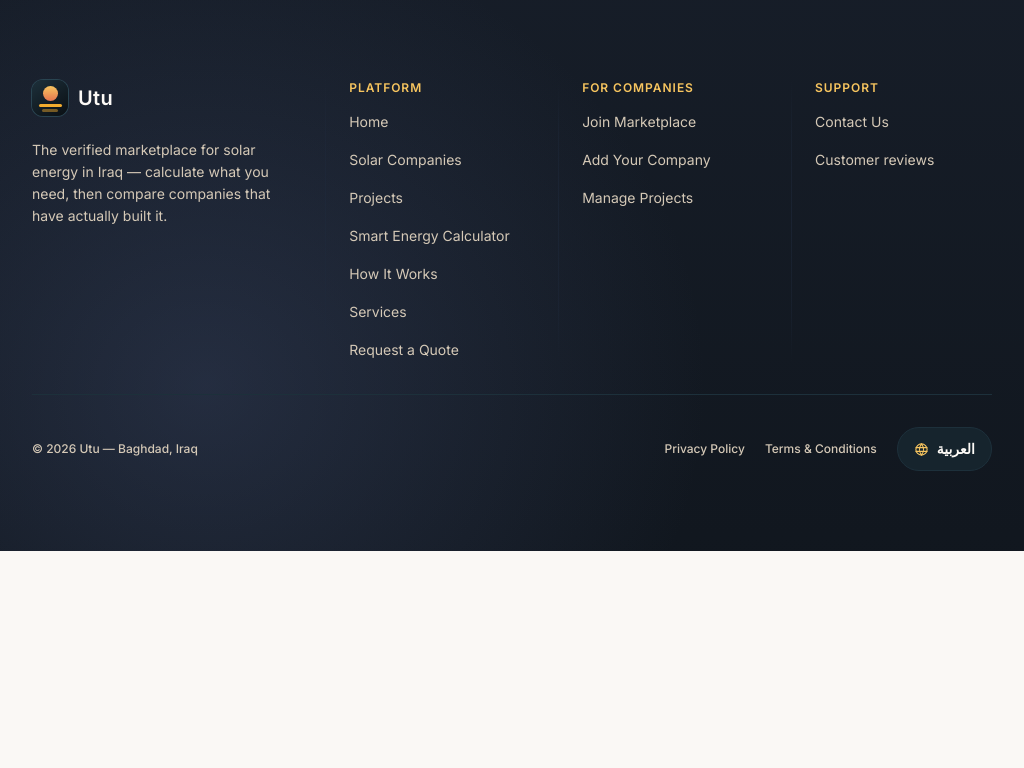
Test: Footer quick links › opens the Terms and Privacy dialogs from their footer links
What coordinates should you click on to do the following:
click the link "Privacy Policy"
I would click on:
 (705, 449)
Its box is [664, 441, 745, 457].
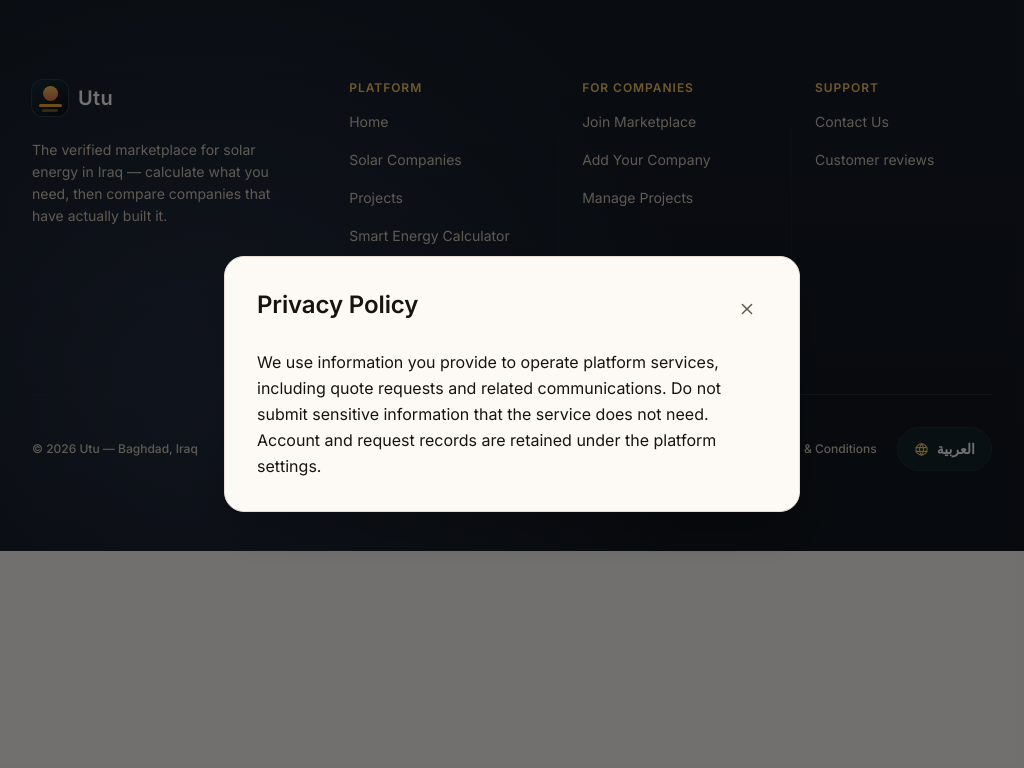
expect the dialog "Privacy Policy" is shown: met, box [224, 256, 800, 512]
What coordinates should you click on to do the following:
click the button named "Close"
I would click on:
 (747, 309)
Its box is [727, 289, 767, 329].
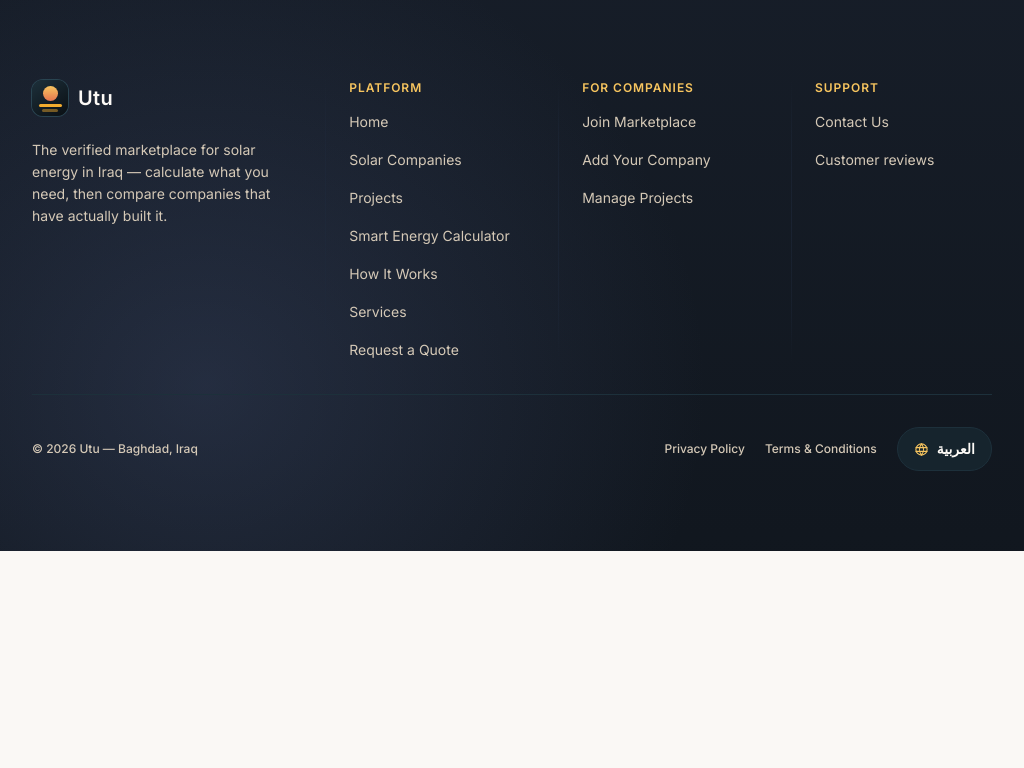
What coordinates should you click on to do the following:
click the link "Terms & Conditions"
I would click on:
 (821, 449)
Its box is [765, 441, 877, 457].
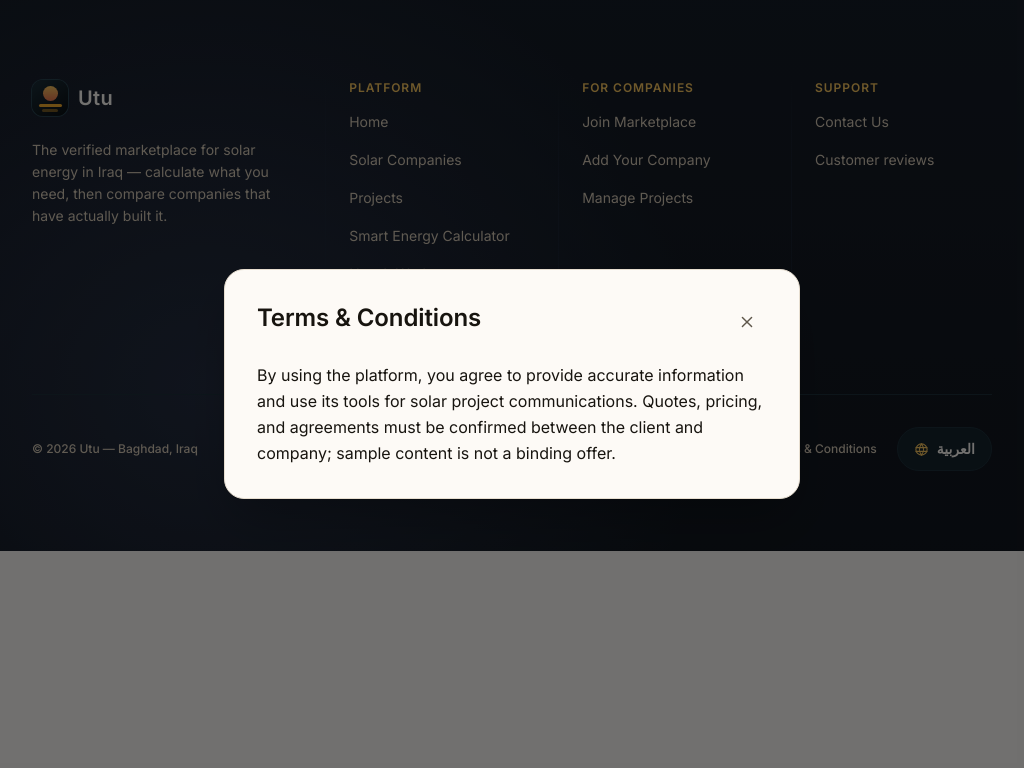
expect the dialog "Terms & Conditions" is shown: met, box [224, 269, 800, 499]
